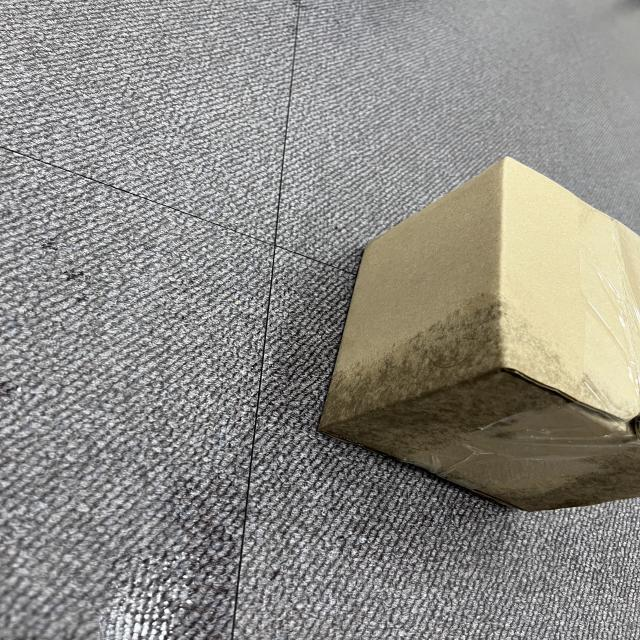wet: (313, 297, 639, 517)
